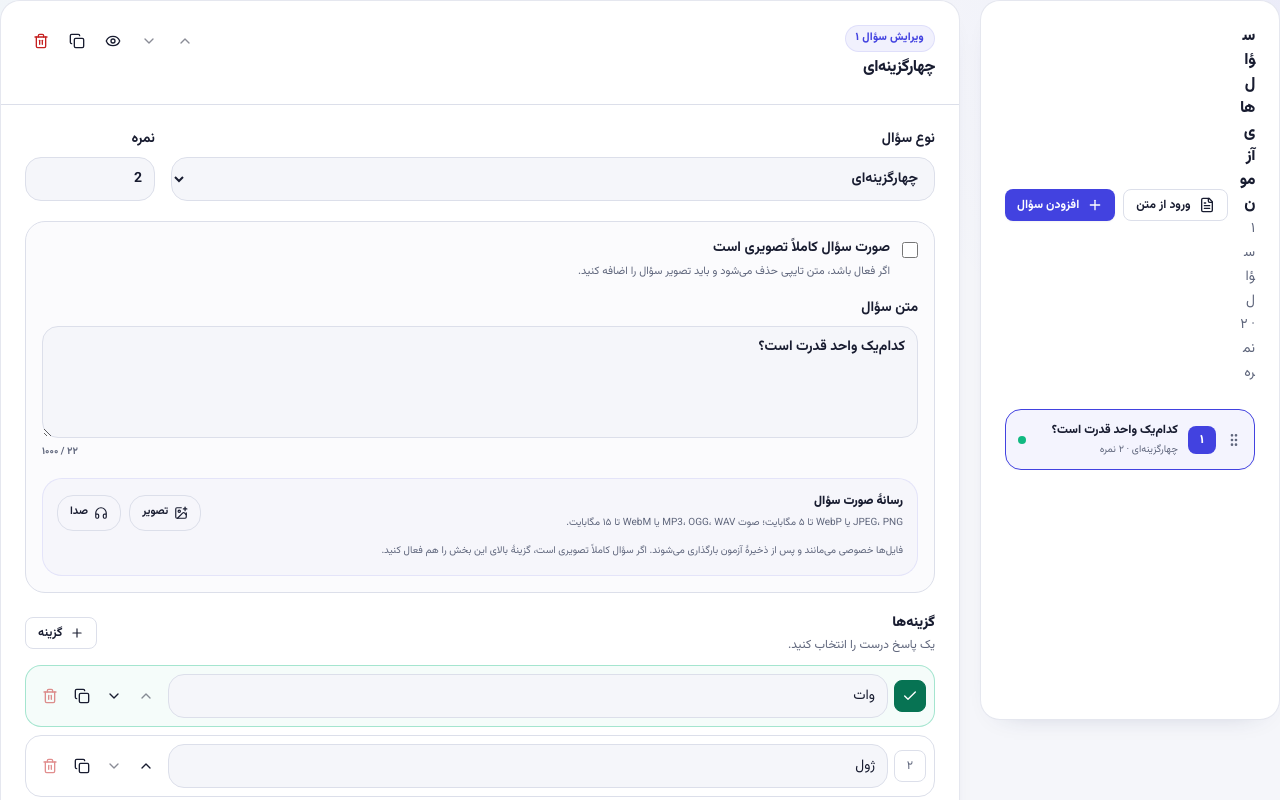
Test: adding a question › shows only the fields the chosen type has
What coordinates should you click on to do the following:
click the button "افزودن سؤال"
I would click on:
 (1060, 205)
Its box is [1005, 189, 1115, 221].
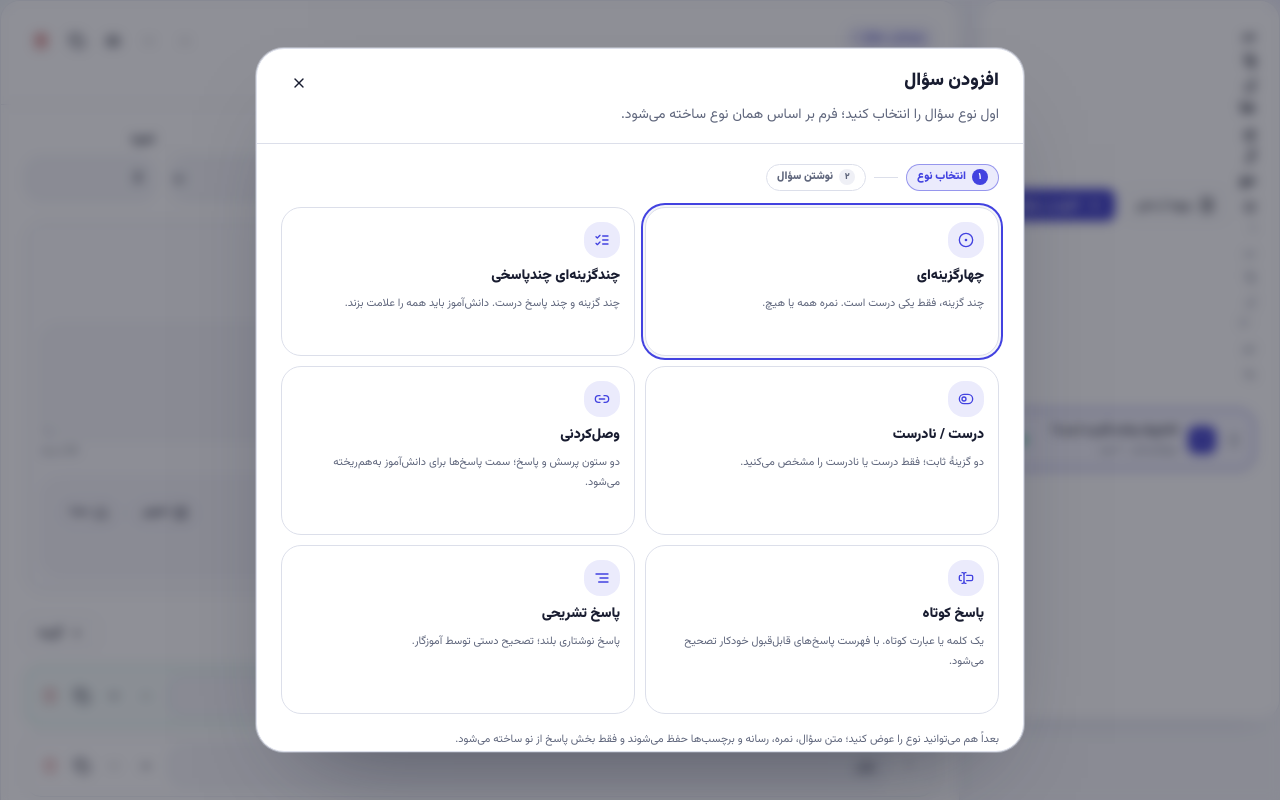
What coordinates should you click on to do the following:
click the button "پاسخ تشریحی پاسخ نوشتاری بلند؛ تصحیح دستی توسط آموزگار."
I would click on:
 (602, 578)
Its box is [281, 544, 635, 714].
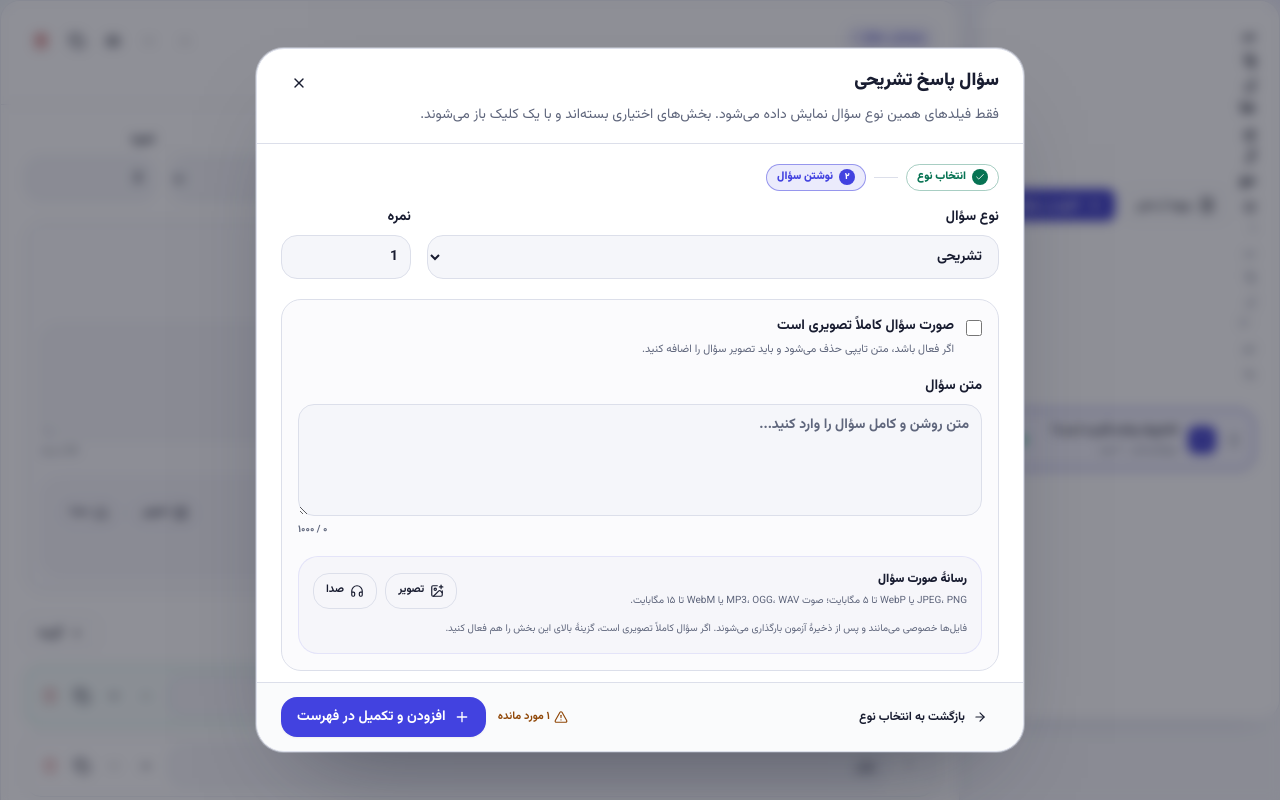
expect the text box labelled "متن سؤال ۰ / ۱۰۰۰" is shown: met, box [298, 404, 982, 516]
